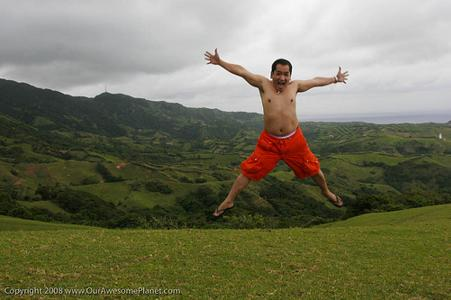person: (203, 50, 350, 219)
